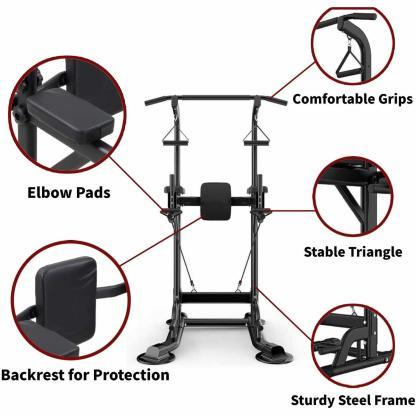chinning dipping: (143, 93, 288, 366)
